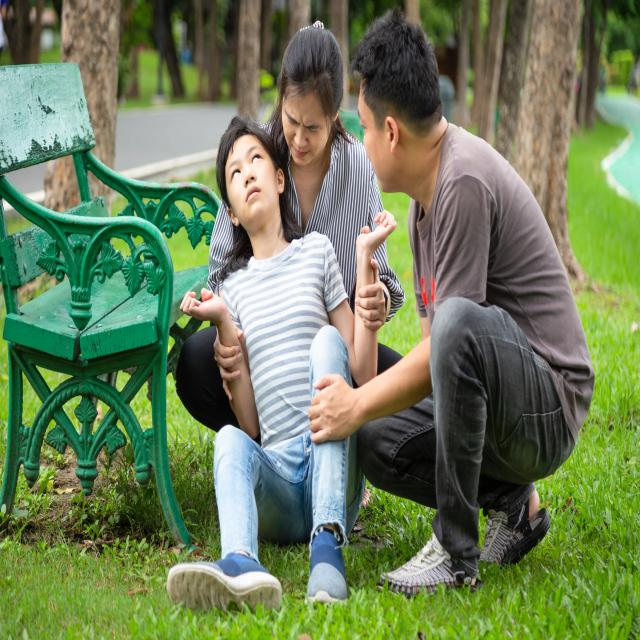unconscious people: (168, 117, 377, 610)
